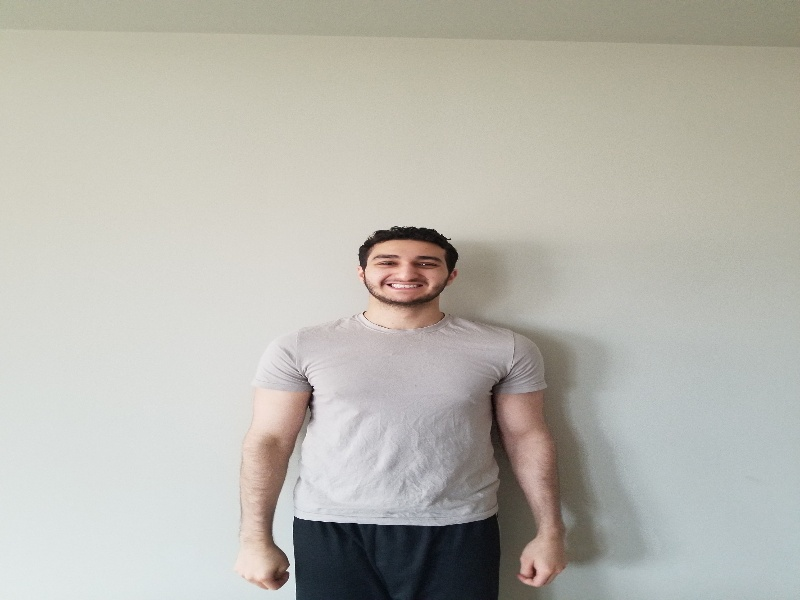smile: (363, 240, 451, 303)
